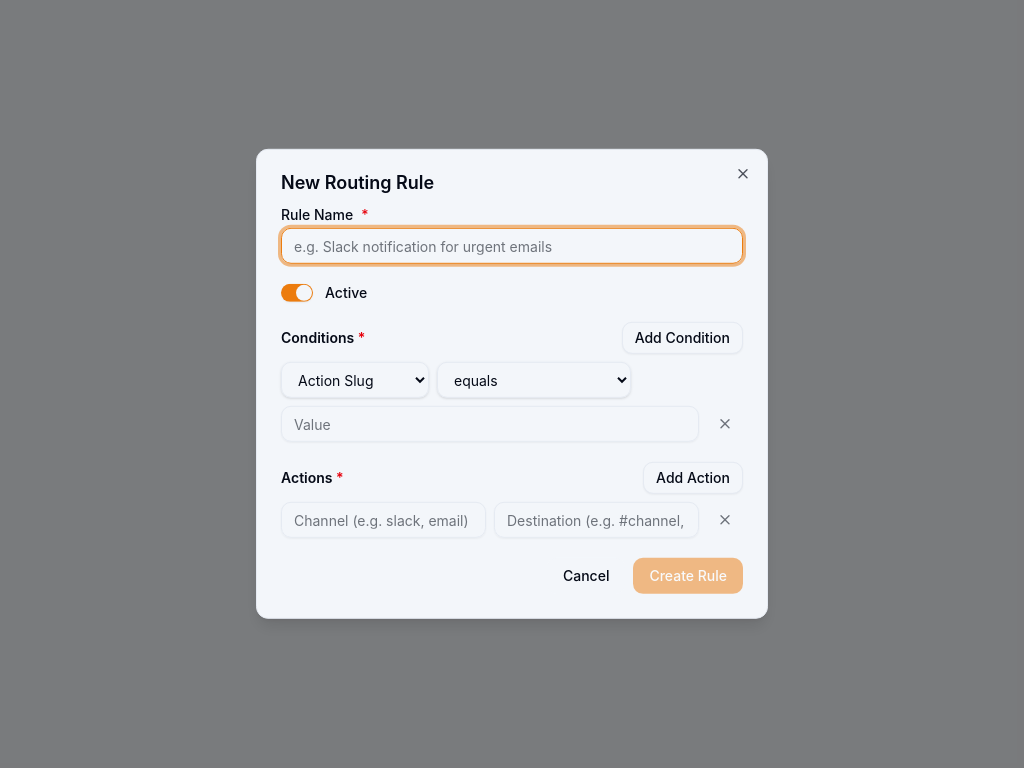
Test: RuleBuilder — add/remove action rows › shows empty hint when all actions are removed
Click the button named "remove action 1" at {"x": 725, "y": 520}, box top-left (707, 502), bottom-right (743, 538)
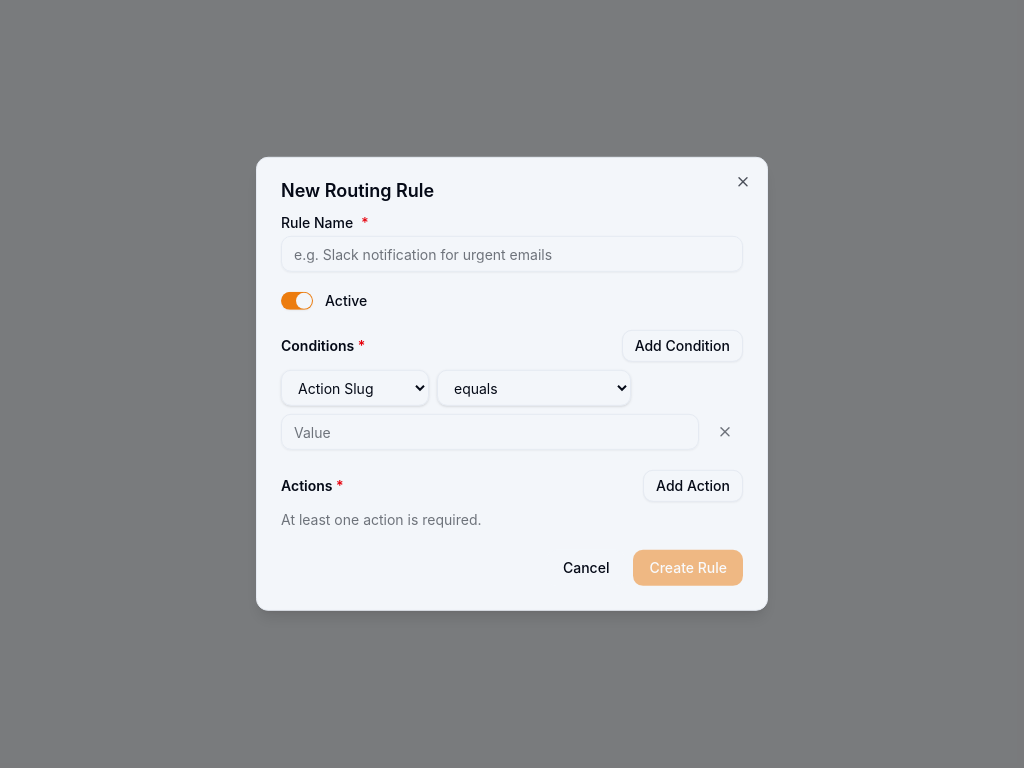
Now the text "At least one action is required." is shown, box top-left (281, 511), bottom-right (482, 528)
